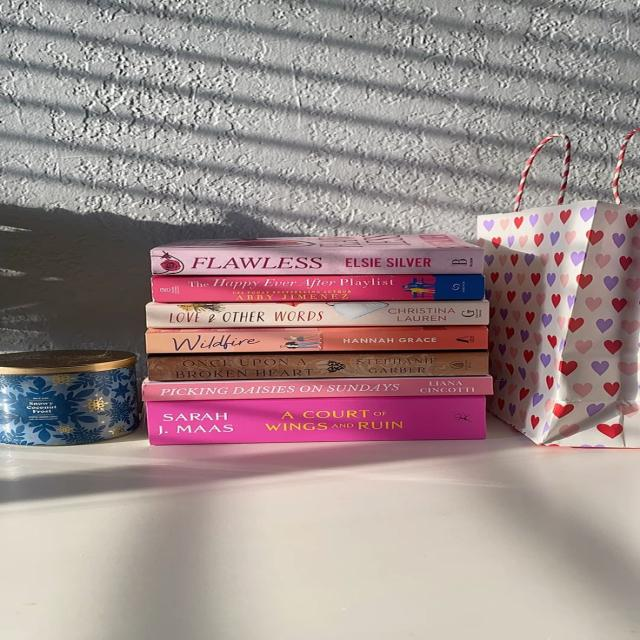book: (146, 395, 485, 445), (146, 299, 489, 328), (147, 325, 488, 354), (148, 352, 488, 381), (152, 274, 483, 303), (142, 375, 492, 401), (150, 248, 482, 274)
candle: (0, 350, 139, 445)
